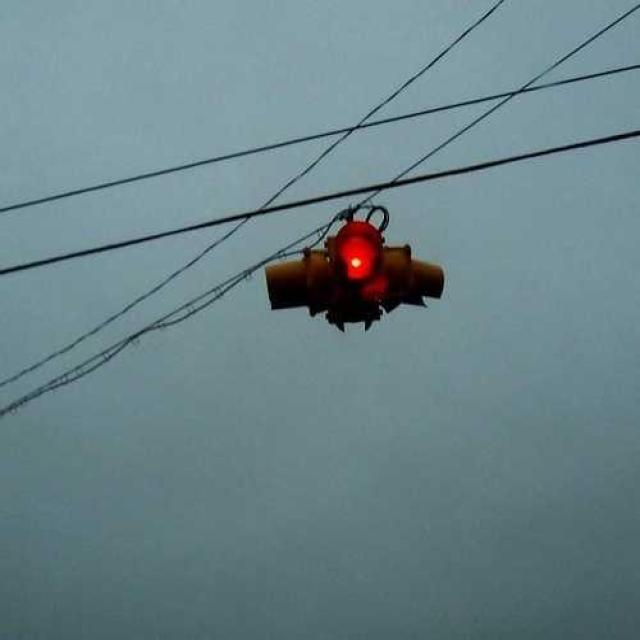Traffic Light -Red-: (258, 239, 428, 335)
